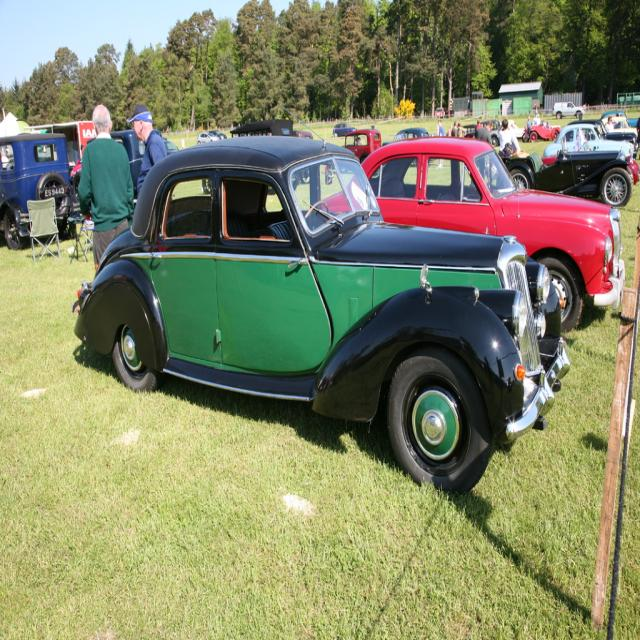car: (76, 134, 600, 495)
